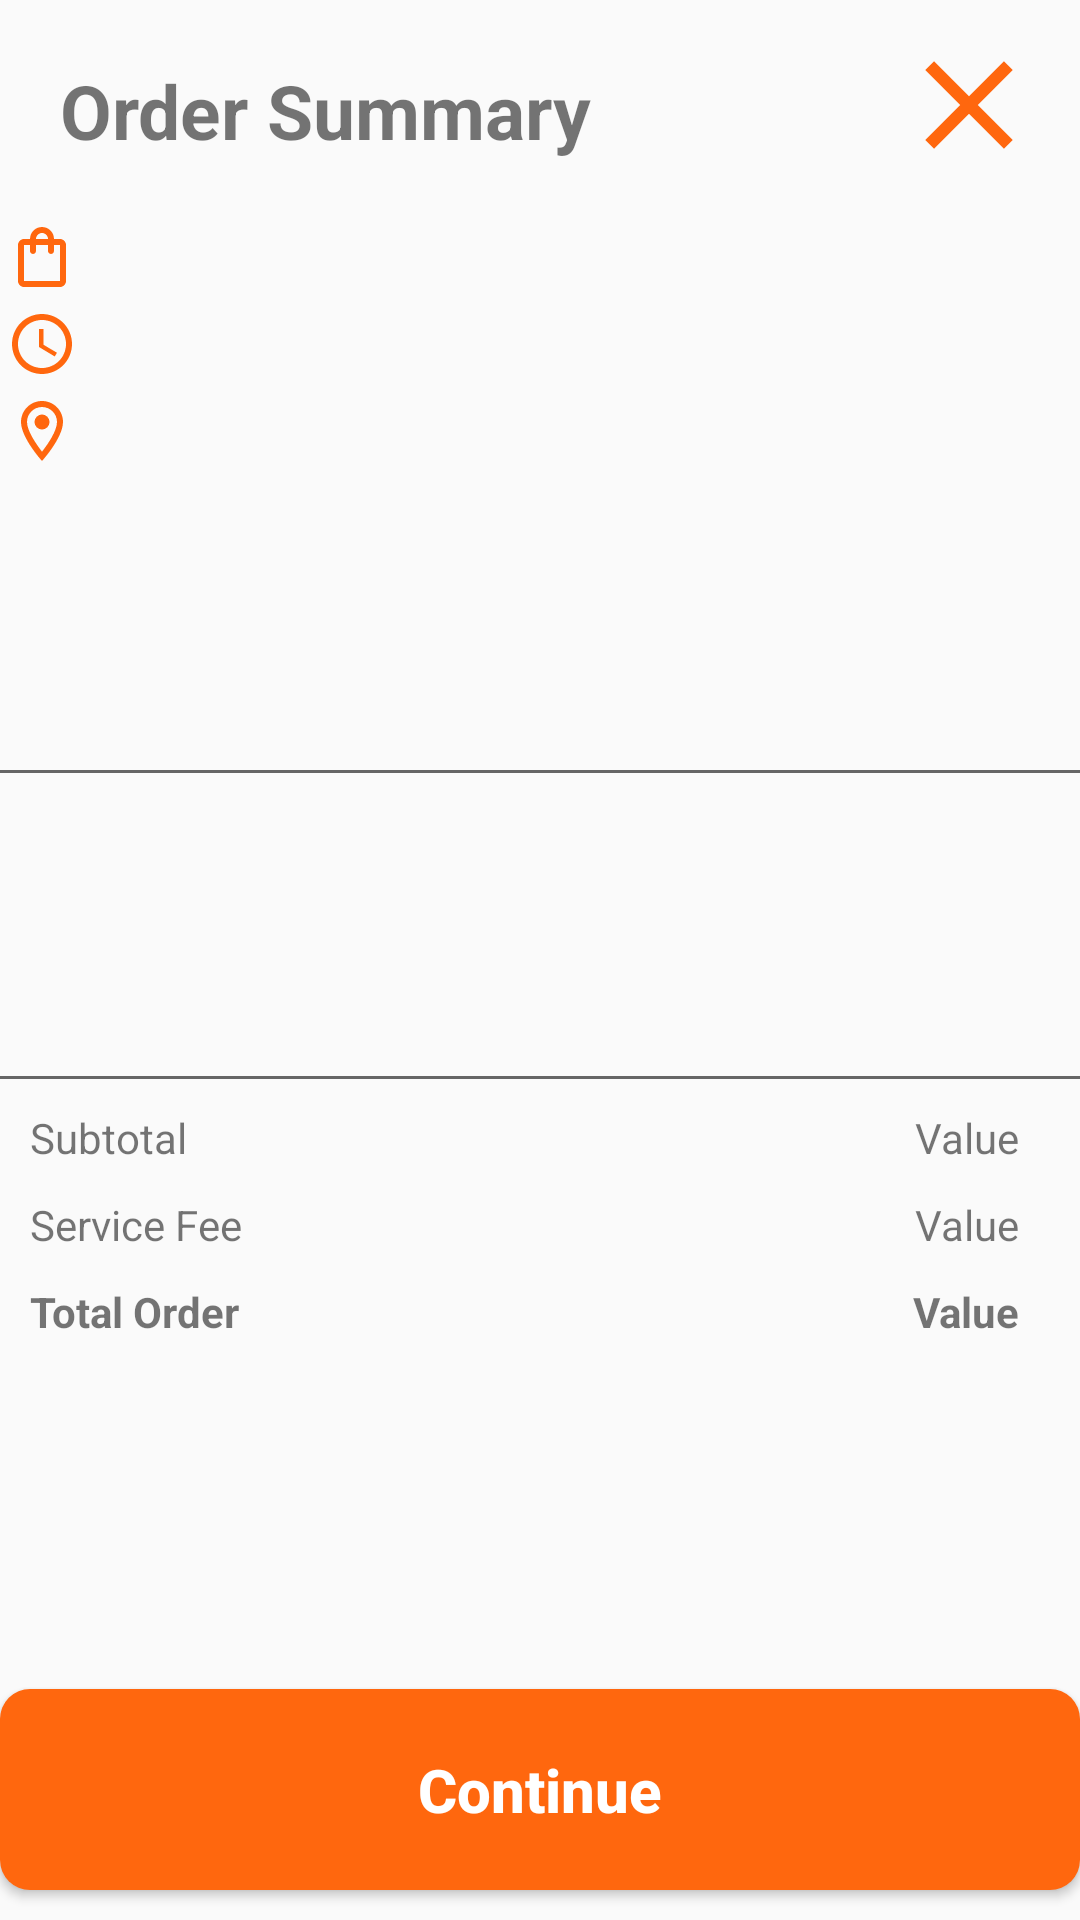

Screen size 1080w x 1920h. Icon name, then its center in pixels as point (x, y):
access time: point (42, 344)
close: point (969, 105)
location on: point (42, 431)
shopping bag: point (42, 257)
